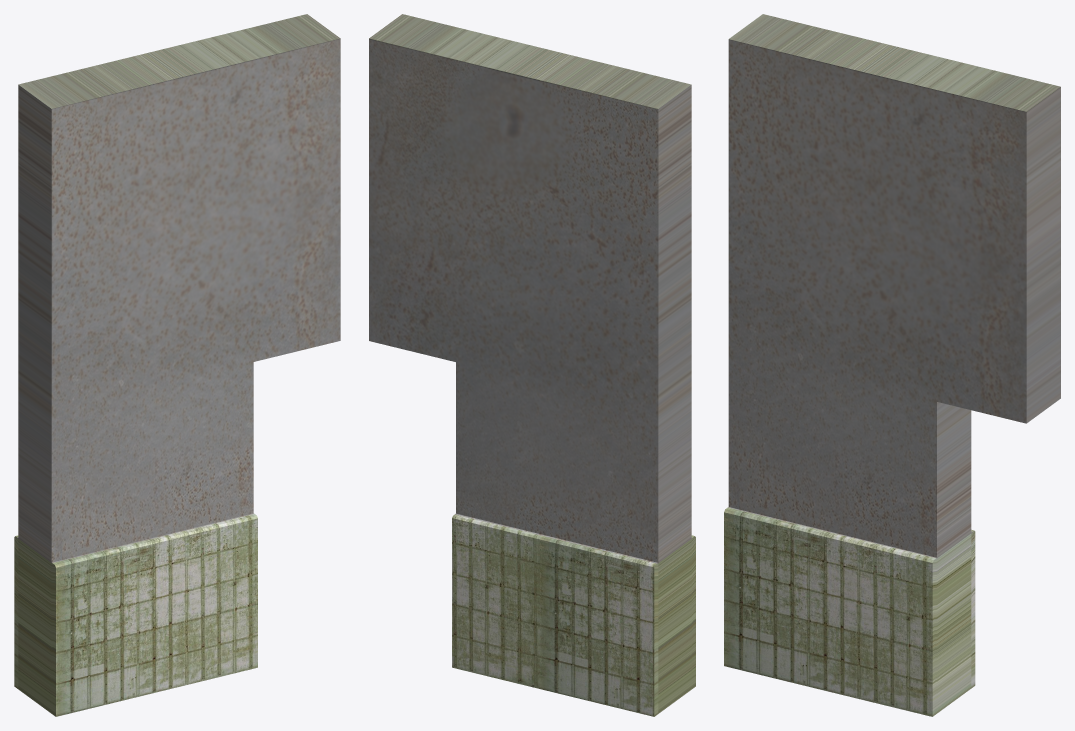
File: modular_door_left.fbx
3 renders of one model, left to right at view 1: azimuth 30°, elevation 25°; view 2: azimuth 150°, elevation 25°; view 3: azimuth 330°, elevation 25°, orthographic. The views are drawn at different scales.
Visible parts, largest first — view 1: modular_door_left_Mesh; view 2: modular_door_left_Mesh; view 3: modular_door_left_Mesh.
Part boxes in pixels (x1=…): modular_door_left_Mesh: x1=14, y1=14, x2=340, y2=716; modular_door_left_Mesh: x1=369, y1=14, x2=695, y2=716; modular_door_left_Mesh: x1=724, y1=14, x2=1060, y2=716.
Bounding box in the file's own units: 250 × 500 × 62.24.
